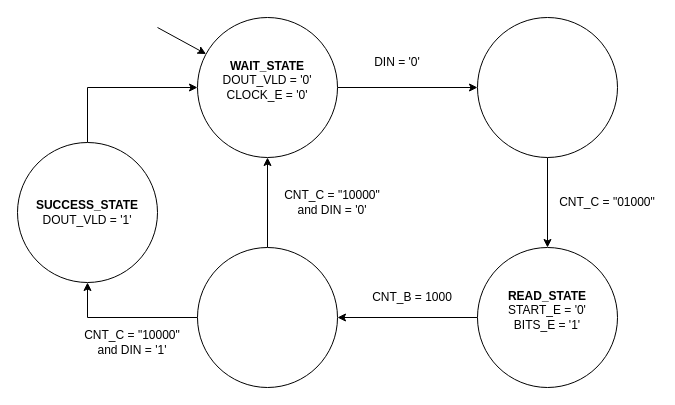
The diagram is 675 pixels wide and 405 high, and some of its shapes have lost their labels. The box of each missing label's shape, as (x1, y1, x2, y2) in pixels:
START_STATE START_E = '1' CLOCK_E = '1': (476, 16, 618, 158)
STOP_STATE BITS_E = '0': (196, 246, 338, 388)
